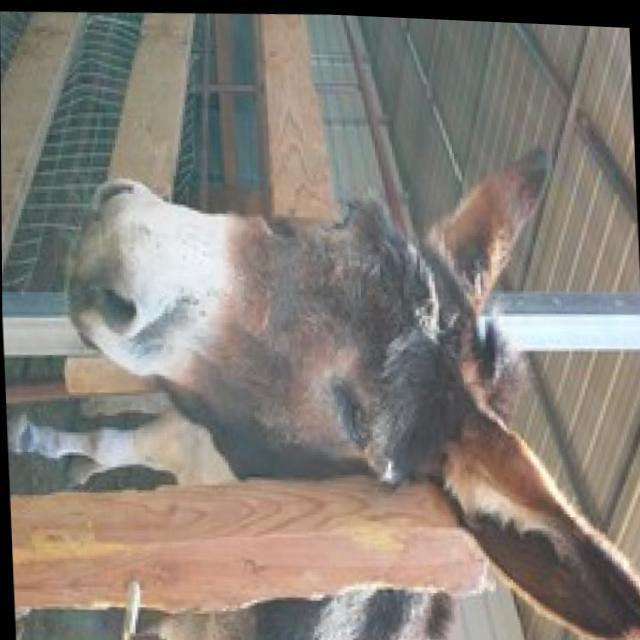Donkey: (39, 82, 640, 640)
